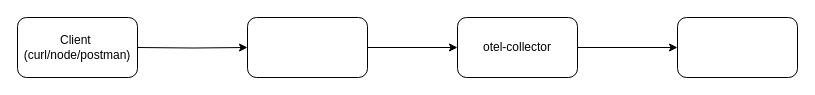
Image size: 815x95. Some labels were removed from this diagram. The shapes that lost their labels are listed below. From the top down, each one's box as (x1, y1, x2, y2) in pixels, then its label:
(246, 16, 368, 78): Application (node/java/python)
(676, 16, 798, 78): AWS xray
